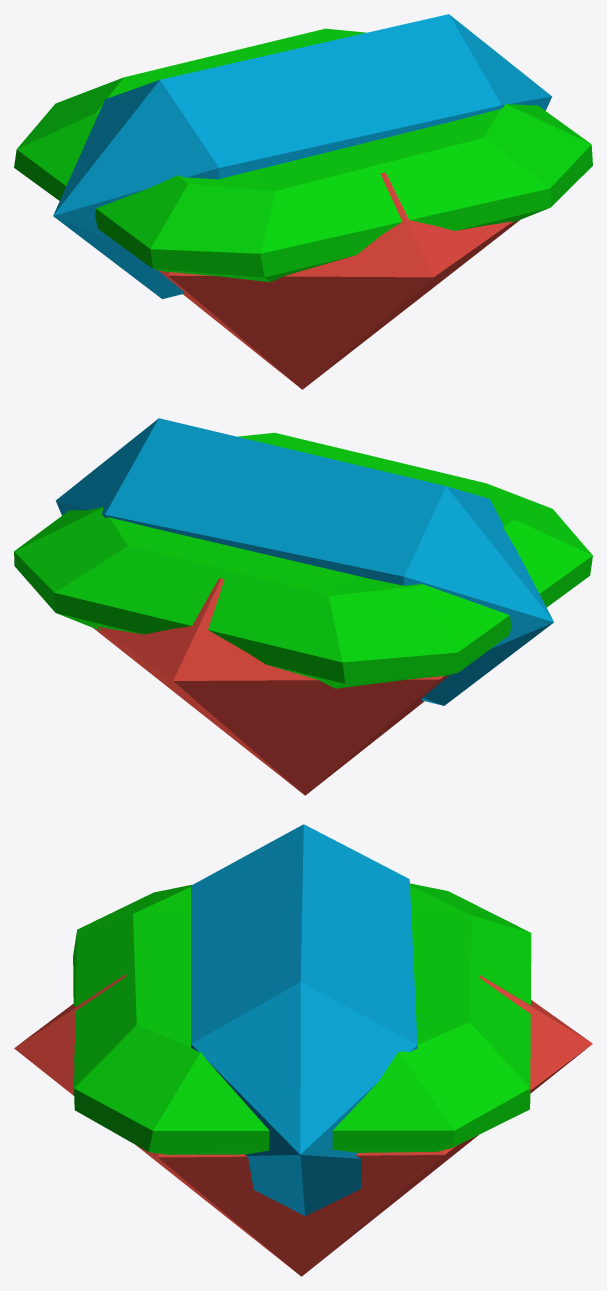
The model's file is LowPolyGems_export.fbx.
3 renders of one model, top to bottom at view 1: azimuth 30°, elevation 25°; view 2: azimuth 150°, elevation 25°; view 3: azimuth 270°, elevation 25°, orthographic. The views are drawn at different scales.
Visible parts, largest first — view 1: BoxGem_LP, LongGem_LP, StandardGem_LP; view 2: BoxGem_LP, LongGem_LP, StandardGem_LP; view 3: BoxGem_LP, LongGem_LP, StandardGem_LP.
Boxes of the visible parts, box(x1,y1,x2,y2) form: BoxGem_LP: box(14, 28, 592, 282); LongGem_LP: box(53, 14, 552, 298); StandardGem_LP: box(158, 172, 519, 389); BoxGem_LP: box(14, 432, 592, 688); LongGem_LP: box(55, 418, 553, 705); StandardGem_LP: box(93, 578, 449, 795); BoxGem_LP: box(73, 883, 531, 1154); LongGem_LP: box(191, 824, 417, 1216); StandardGem_LP: box(14, 974, 592, 1276).
Bounding box in the file's own units: 342 × 225 × 314.
